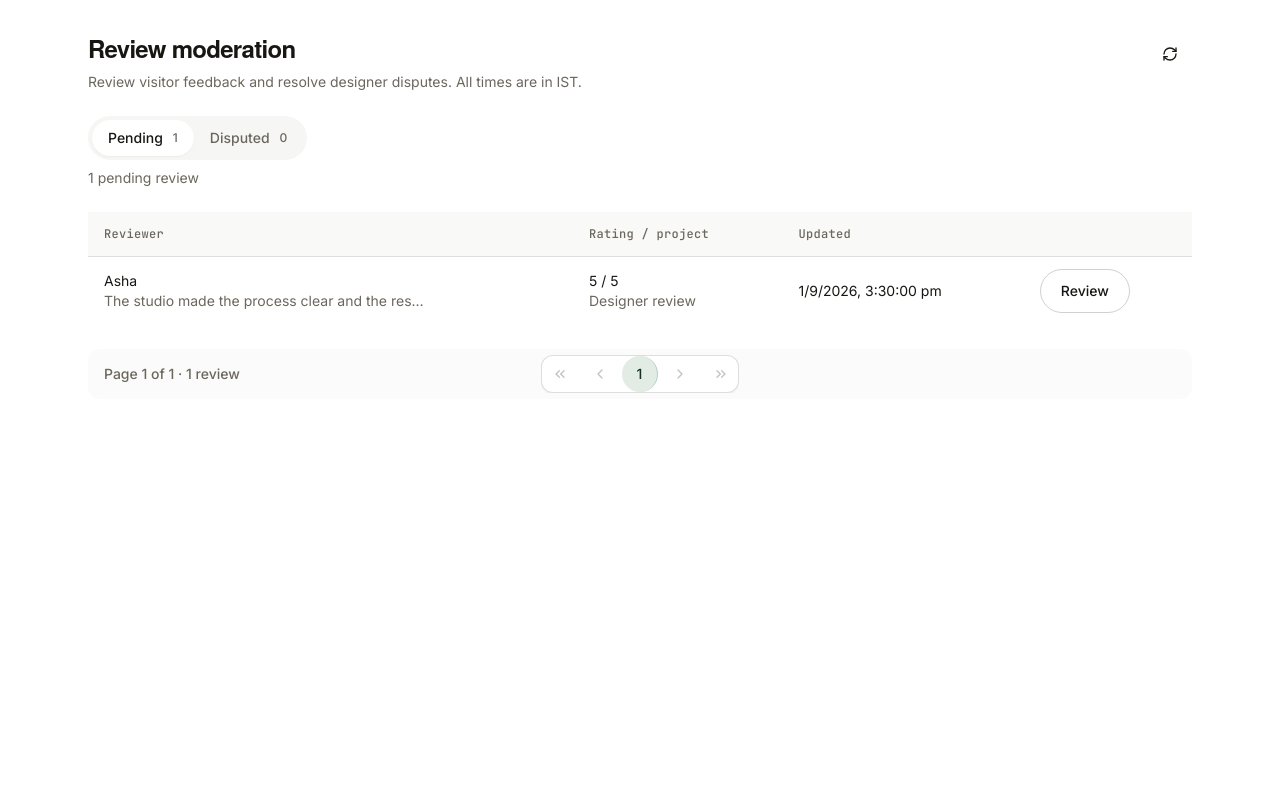
Test: AdminReviewQueue › uses the warning badge for a pending review
Click the button with aria-label "Review feedback by Asha" at (1085, 290), box left=1040, top=268, right=1130, bottom=312
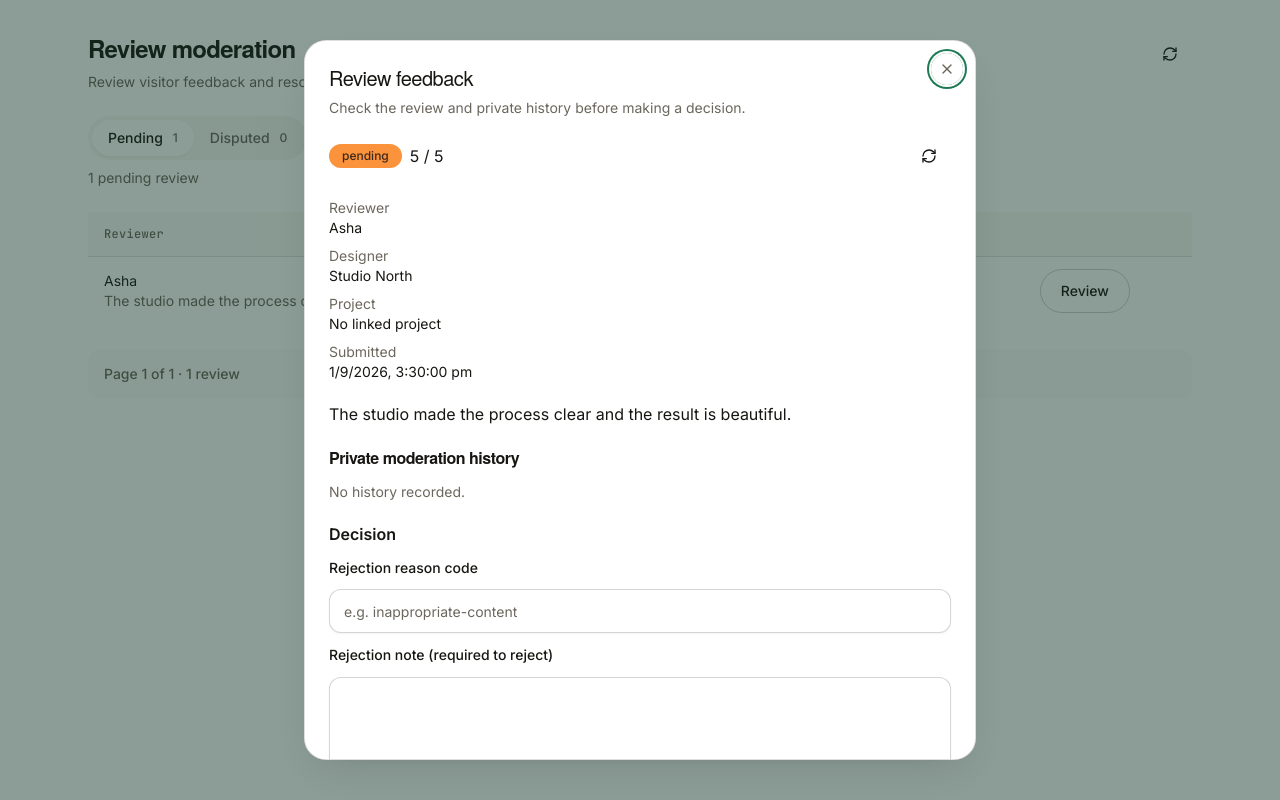
Expected: the text "Studio North" is shown, left=329, top=267, right=412, bottom=284
